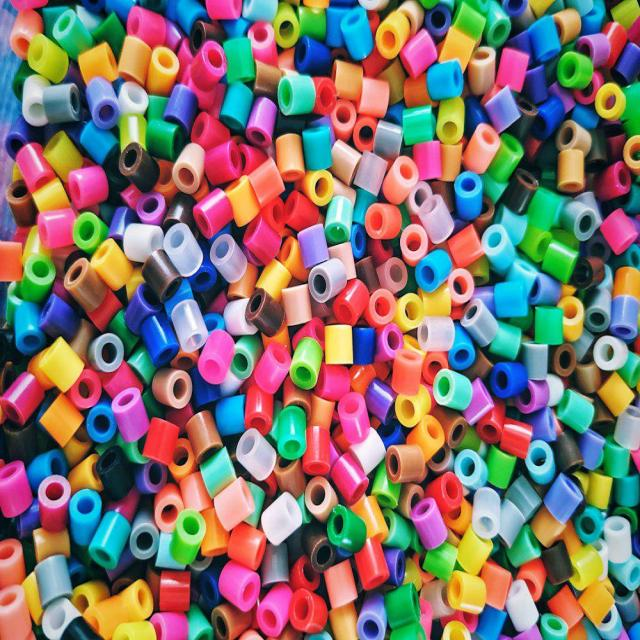plastic: (267, 368, 392, 560), (291, 175, 426, 348), (116, 208, 180, 307)
trash: (16, 12, 604, 619)
